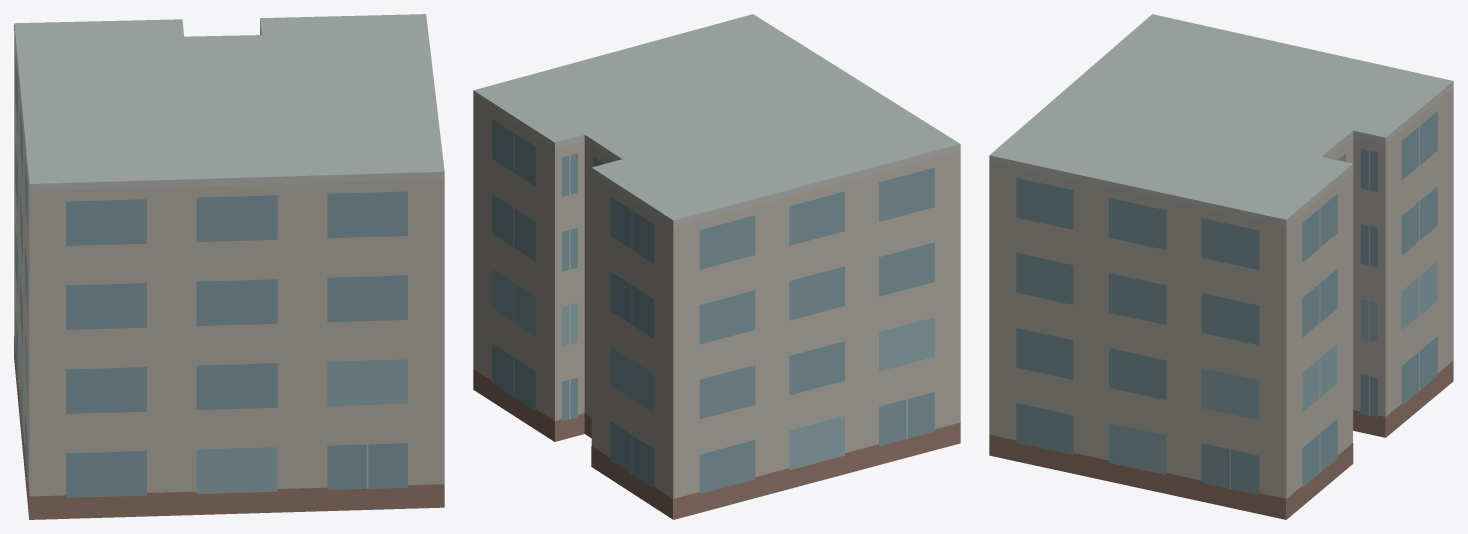
Rendered from survey-upis-32963347.glb.
3 renders of one model, left to right at view 1: azimuth 30°, elevation 25°; view 2: azimuth 150°, elevation 25°; view 3: azimuth 270°, elevation 25°, orthographic. The views are drawn at different scales.
Visible parts, largest first — view 1: survey-upis-32963347.tmp; view 2: survey-upis-32963347.tmp; view 3: survey-upis-32963347.tmp.
Boxes of the visible parts, left/top/right/bottom form: survey-upis-32963347.tmp: left=14, top=14, right=444, bottom=519; survey-upis-32963347.tmp: left=473, top=14, right=960, bottom=519; survey-upis-32963347.tmp: left=989, top=14, right=1453, bottom=519.
Size of the model in its own units: 16.19 by 11.01 by 15.45.
